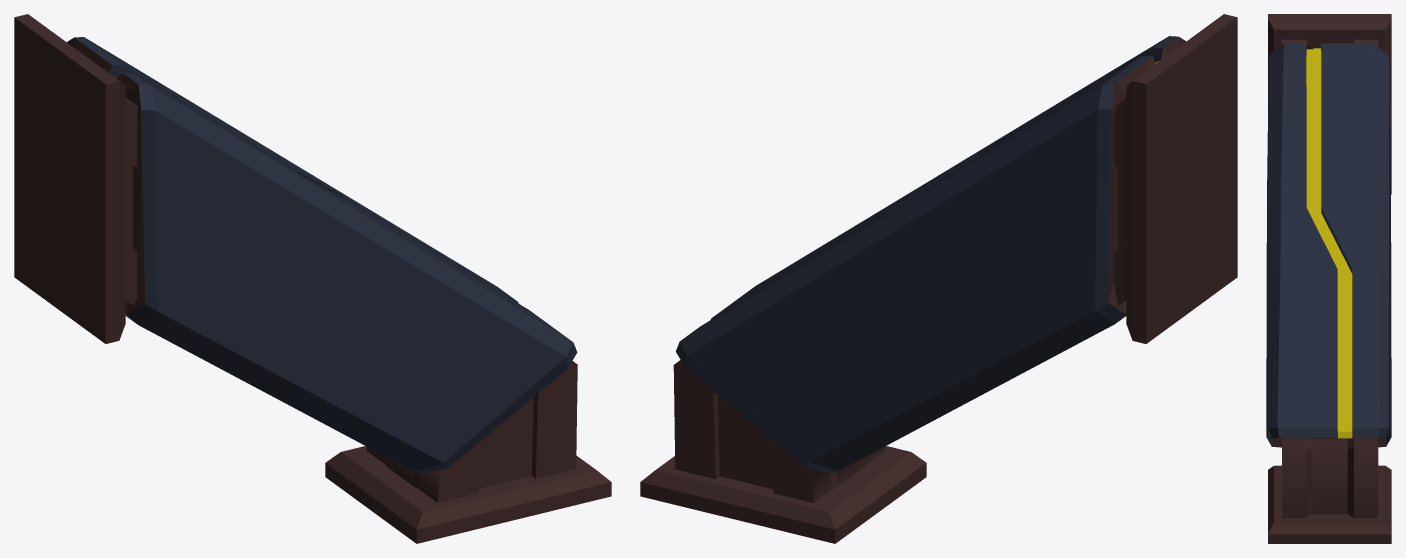
The model's file is Module_Ss_ass_CO2.FBX.
3 views of the same model, side by side, from view 1: azimuth 30°, elevation 25°; view 2: azimuth 150°, elevation 25°; view 3: azimuth 270°, elevation 25° (orthographic). The views are drawn at different scales.
Visible parts, largest first — view 1: Module_Ss_ass_CO2; view 2: Module_Ss_ass_CO2; view 3: Module_Ss_ass_CO2.
Boxes of the visible parts, x1,y1,x2,y2 form: Module_Ss_ass_CO2: (14, 14, 611, 543); Module_Ss_ass_CO2: (640, 14, 1237, 543); Module_Ss_ass_CO2: (1266, 14, 1391, 543).
Bounding box in the file's own units: 42.39 × 42.88 × 13.44.
